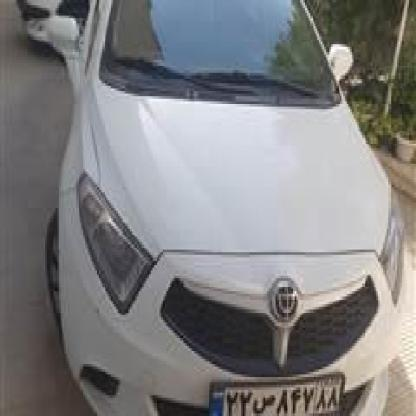Car: (45, 0, 402, 416)
